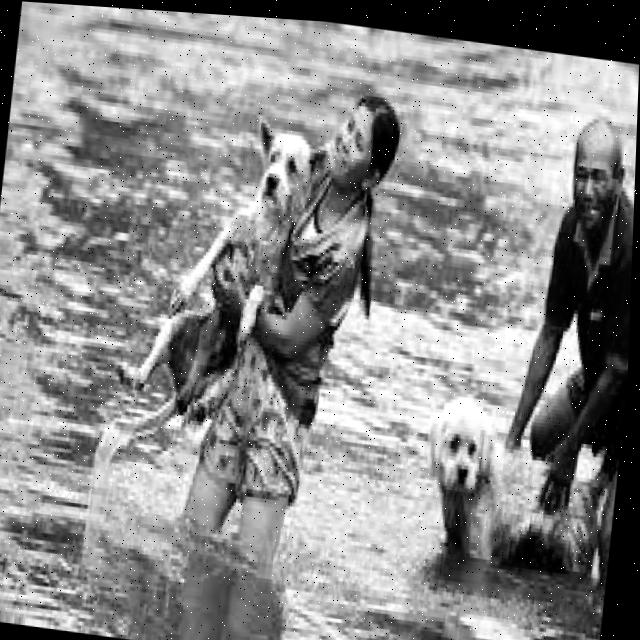civilian: (177, 67, 406, 584), (487, 98, 638, 594)
dog: (103, 92, 328, 447), (379, 383, 617, 592)
